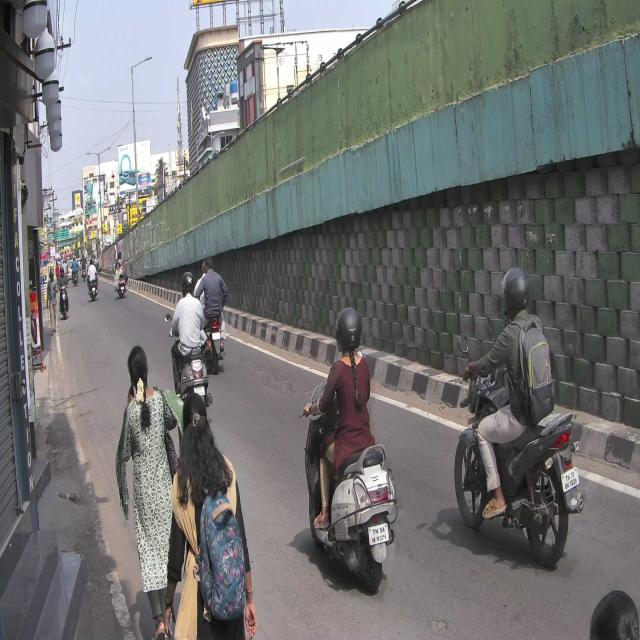single_rider: (454, 267, 582, 569), (300, 304, 398, 596)
